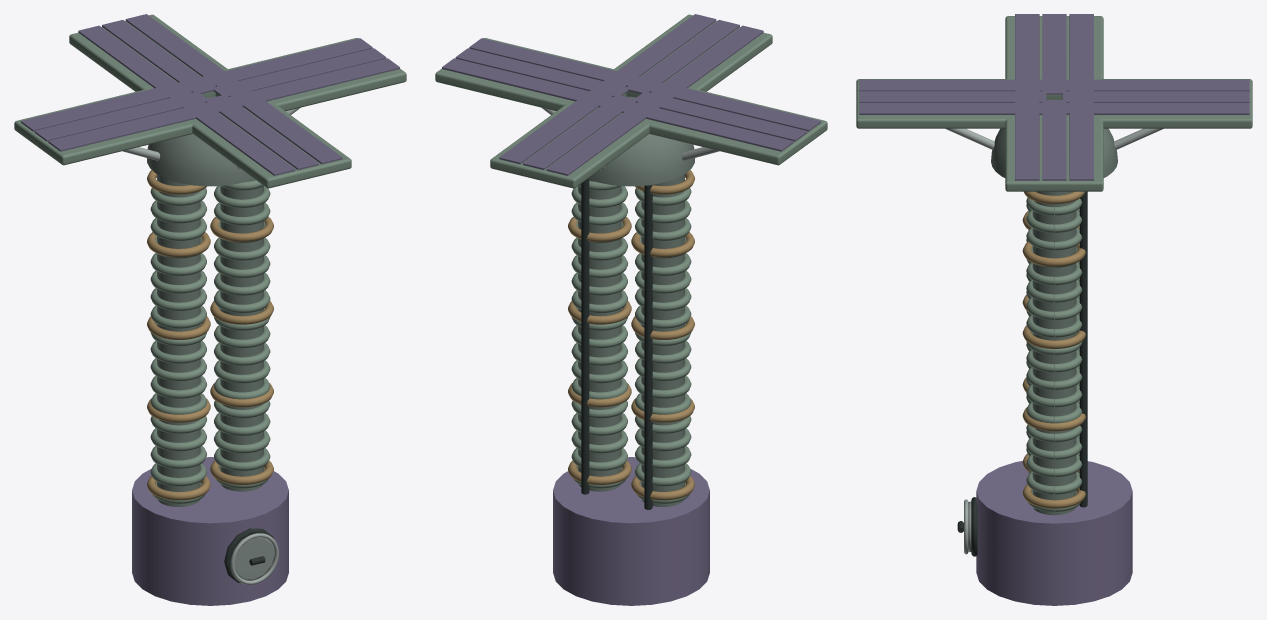
The picture shows the model from 3 angles, left to right: view 1: azimuth 30°, elevation 25°; view 2: azimuth 150°, elevation 25°; view 3: azimuth 270°, elevation 25°; orthographic projection.
Parts seen in each view (by area): view 1: Foundation drum, Solar matrix pillar, Solar matrix pillar.001, Solar matrix crown, Radial collector panel.003, Radial collector panel.002, Radial collector panel, Radial collector panel.001, Matrix base electronics lid, Coil structural clamp.003, Coil structural clamp.008, Coil structural clamp (+36 smaller); view 2: Foundation drum, Solar matrix pillar, Solar matrix pillar.001, Solar matrix crown, Radial collector panel.001, Coil protected power riser, Radial collector panel.002, Coil protected power riser.001, Radial collector panel, Radial collector panel.003, Coil structural clamp.008, Coil structural clamp.003 (+31 smaller); view 3: Foundation drum, Solar matrix pillar.001, Radial collector panel, Radial collector panel.001, Radial collector panel.003, Coil protected power riser.001, Radial collector panel.002, Solar matrix crown, Coil structural clamp.008, Coil structural clamp.005, Coil structural clamp.007, Solar matrix coil.021 (+15 smaller).
Part boxes in pixels (bbox=[...]): Foundation drum: bbox=[132, 457, 288, 605]; Solar matrix pillar: bbox=[157, 174, 200, 506]; Solar matrix pillar.001: bbox=[220, 179, 263, 491]; Solar matrix crown: bbox=[147, 96, 253, 186]; Radial collector panel.003: bbox=[190, 101, 351, 188]; Radial collector panel.002: bbox=[14, 89, 199, 165]; Radial collector panel: bbox=[215, 38, 406, 111]; Radial collector panel.001: bbox=[69, 14, 227, 97]; Matrix base electronics lid: bbox=[232, 537, 274, 580]; Coil structural clamp.003: bbox=[147, 232, 210, 257]; Coil structural clamp.008: bbox=[210, 217, 273, 241]; Coil structural clamp: bbox=[147, 476, 210, 500]; Foundation drum: bbox=[553, 457, 709, 605]; Solar matrix pillar: bbox=[641, 174, 684, 506]; Solar matrix pillar.001: bbox=[578, 180, 621, 491]; Solar matrix crown: bbox=[588, 96, 694, 186]; Radial collector panel.001: bbox=[490, 100, 652, 188]; Coil protected power riser: bbox=[644, 185, 652, 509]; Radial collector panel.002: bbox=[646, 87, 827, 165]; Coil protected power riser.001: bbox=[581, 179, 589, 494]; Radial collector panel: bbox=[435, 38, 626, 111]; Radial collector panel.003: bbox=[614, 14, 772, 97]; Coil structural clamp.008: bbox=[568, 217, 631, 241]; Coil structural clamp.003: bbox=[631, 232, 694, 257]; Foundation drum: bbox=[976, 461, 1132, 605]; Solar matrix pillar.001: bbox=[1032, 191, 1076, 515]; Radial collector panel: bbox=[1005, 115, 1103, 191]; Radial collector panel.001: bbox=[1094, 79, 1252, 128]; Radial collector panel.003: bbox=[856, 79, 1014, 128]; Coil protected power riser.001: bbox=[1079, 191, 1087, 507]; Radial collector panel.002: bbox=[1005, 16, 1103, 99]; Solar matrix crown: bbox=[991, 99, 1117, 177]; Coil structural clamp.008: bbox=[1022, 241, 1085, 266]; Coil structural clamp.005: bbox=[1022, 484, 1085, 508]; Coil structural clamp.007: bbox=[1022, 325, 1085, 348]; Solar matrix coil.021: bbox=[1026, 437, 1082, 459].
Size of the model in its own units: 2.18 by 2.9 by 2.18.
